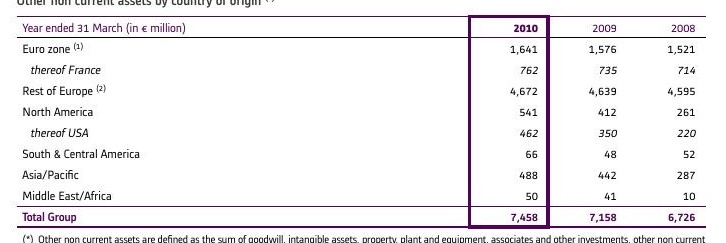table: (0, 0, 726, 243)
